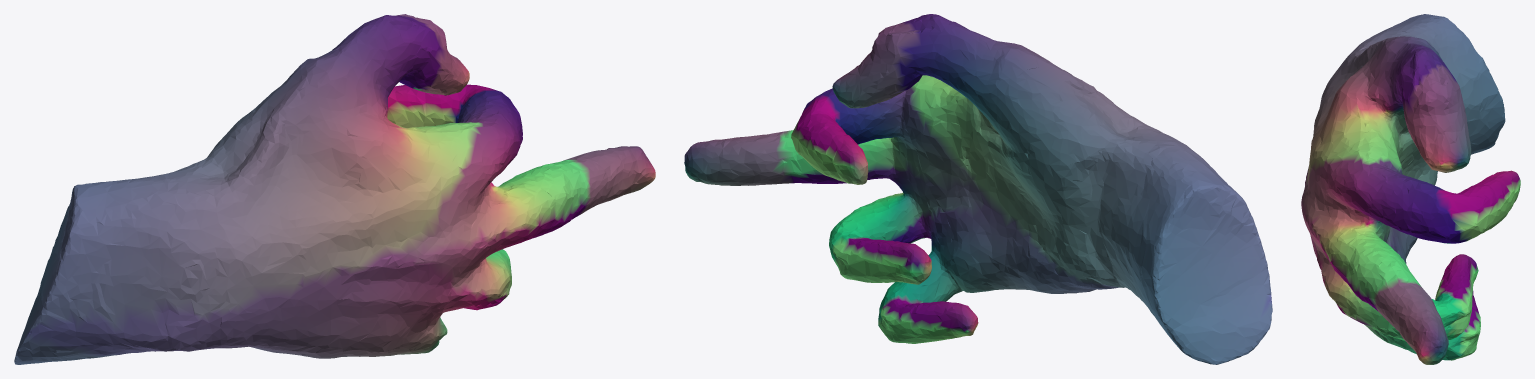
Rendered from hand-1.off.obj.
3 views of the same model, side by side, from view 1: azimuth 30°, elevation 25°; view 2: azimuth 150°, elevation 25°; view 3: azimuth 270°, elevation 25° (orthographic). The views are drawn at different scales.
Size of the model in its own units: 1.74 by 0.8975 by 0.599.
